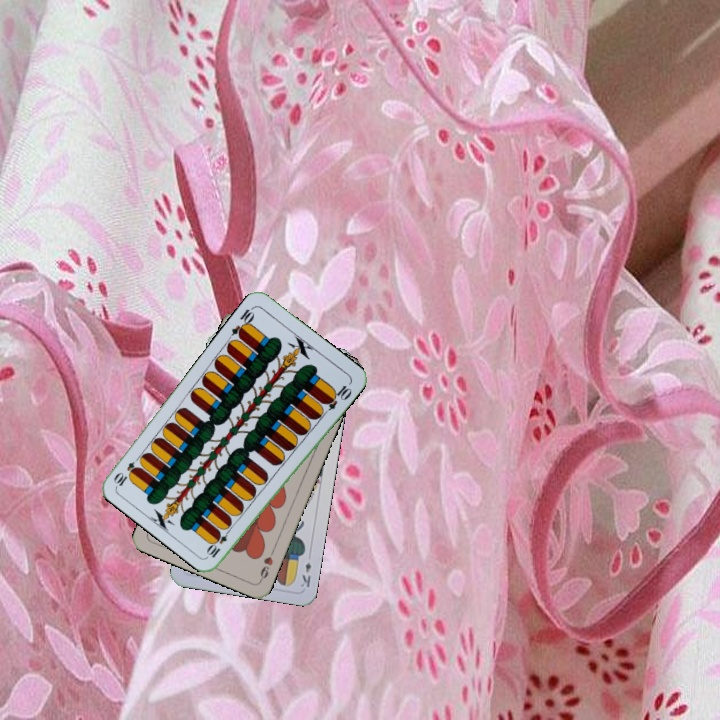E10: (227, 303, 258, 341), (204, 523, 234, 560)
EK: (297, 558, 314, 590)
H9: (256, 545, 277, 583)
